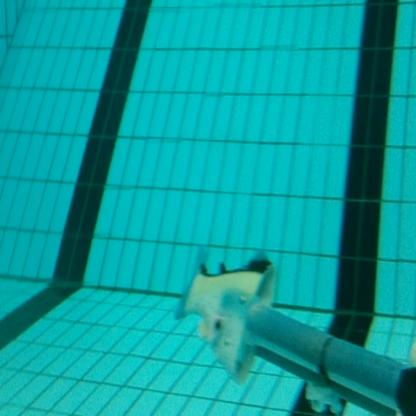tail: (173, 246, 277, 388)
